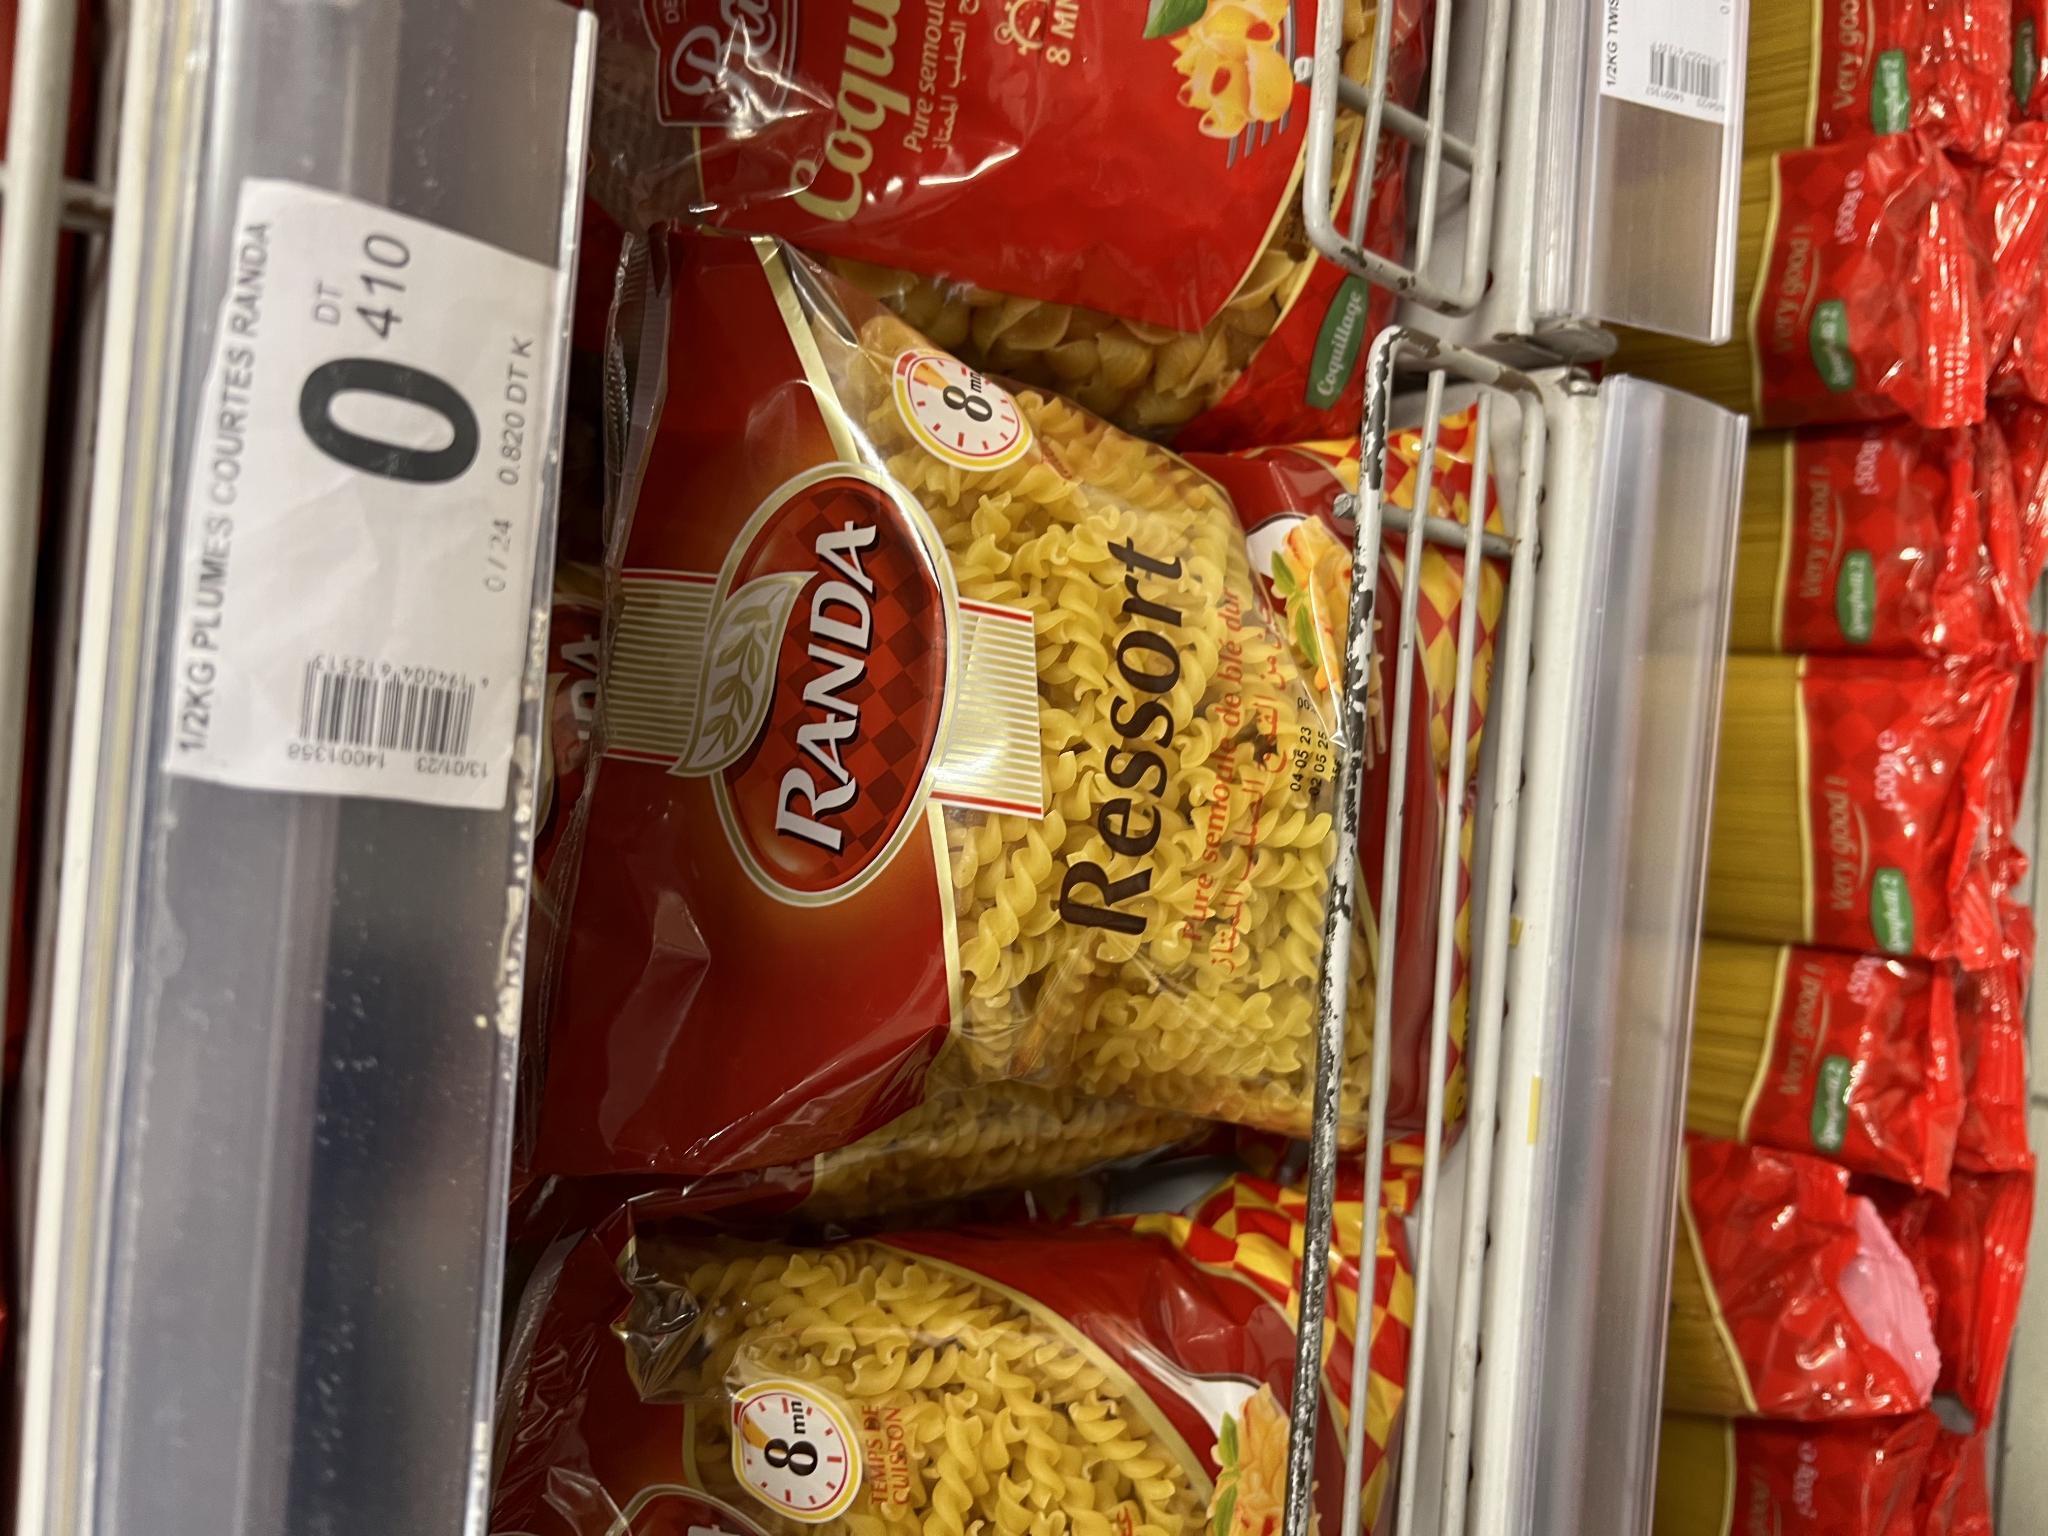Ressort: (560, 290, 1426, 1217)
